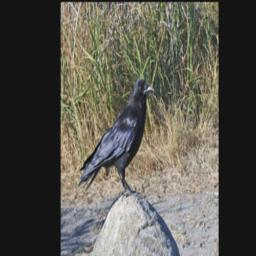Crow: (77, 74, 155, 203)
